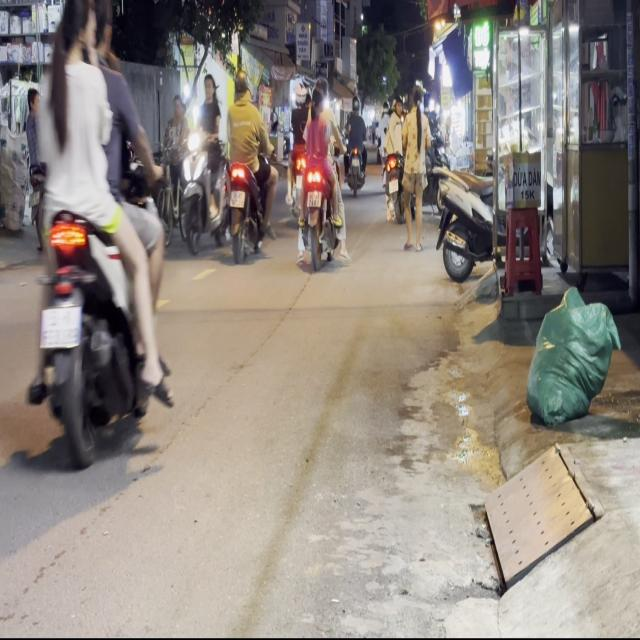helmet: (232, 67, 253, 102)
licenseplate: (24, 0, 171, 464), (220, 62, 285, 272), (294, 73, 346, 271), (179, 68, 227, 254)
motorcyclist: (51, 0, 92, 64), (83, 1, 113, 64), (202, 72, 220, 105), (309, 84, 325, 117)
nohelmet: (40, 304, 80, 346), (306, 190, 321, 206)
